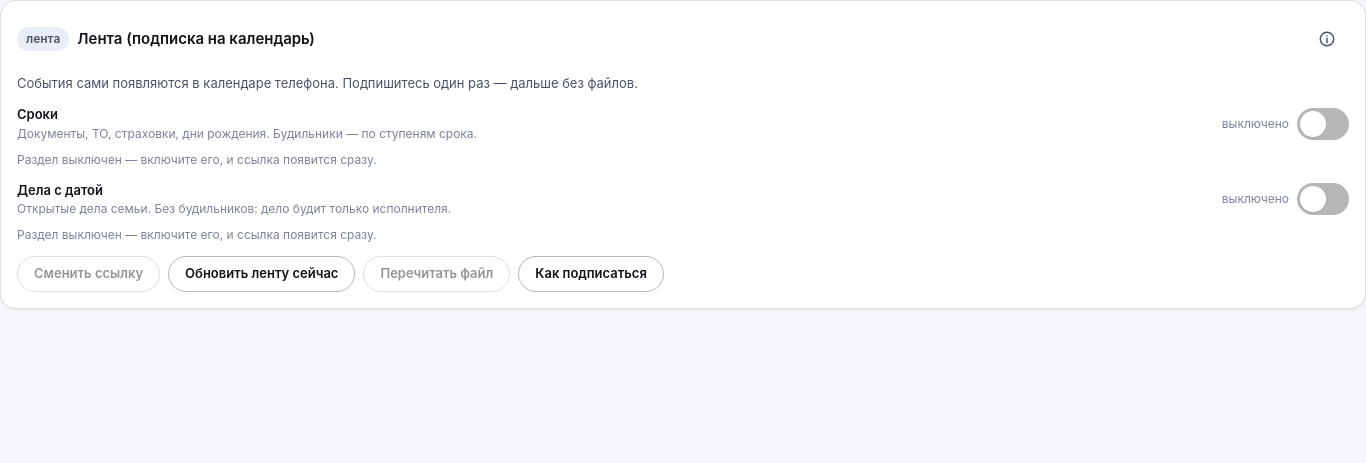
Test case: лента в Настройках › включение раздела сохраняет файл настроек и объясняет задержку
Step 1. Click the switch named "Лента: Сроки" → (1323, 124), box [1297,108,1349,140]
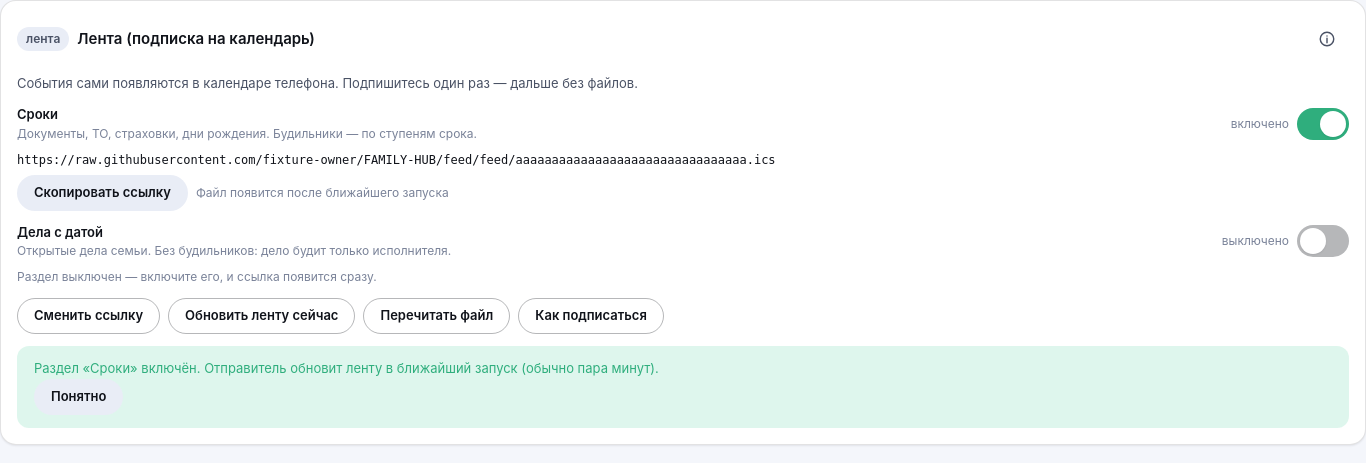
Result: the text "ближайший запуск" is shown at [34,360,659,376]
